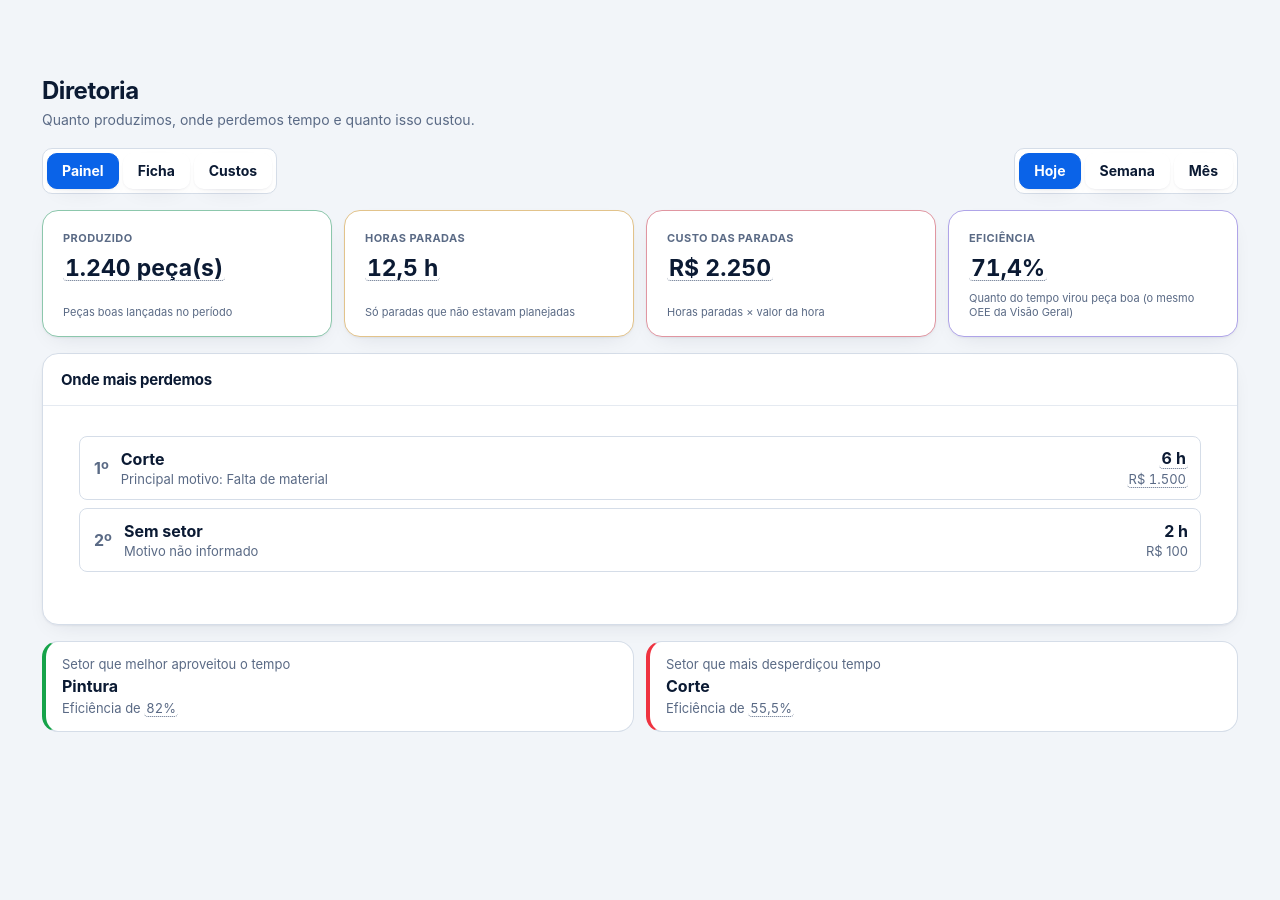
Diretoria: números clicáveis › Painel: horas e custo de cada setor do ranking levam o setor
expect the heading "Onde mais perdemos" is shown: met, box [61, 370, 212, 389]
Step 1. Click the button named "Ver de onde vem este número:" → (1174, 459), box [1159, 448, 1188, 469]
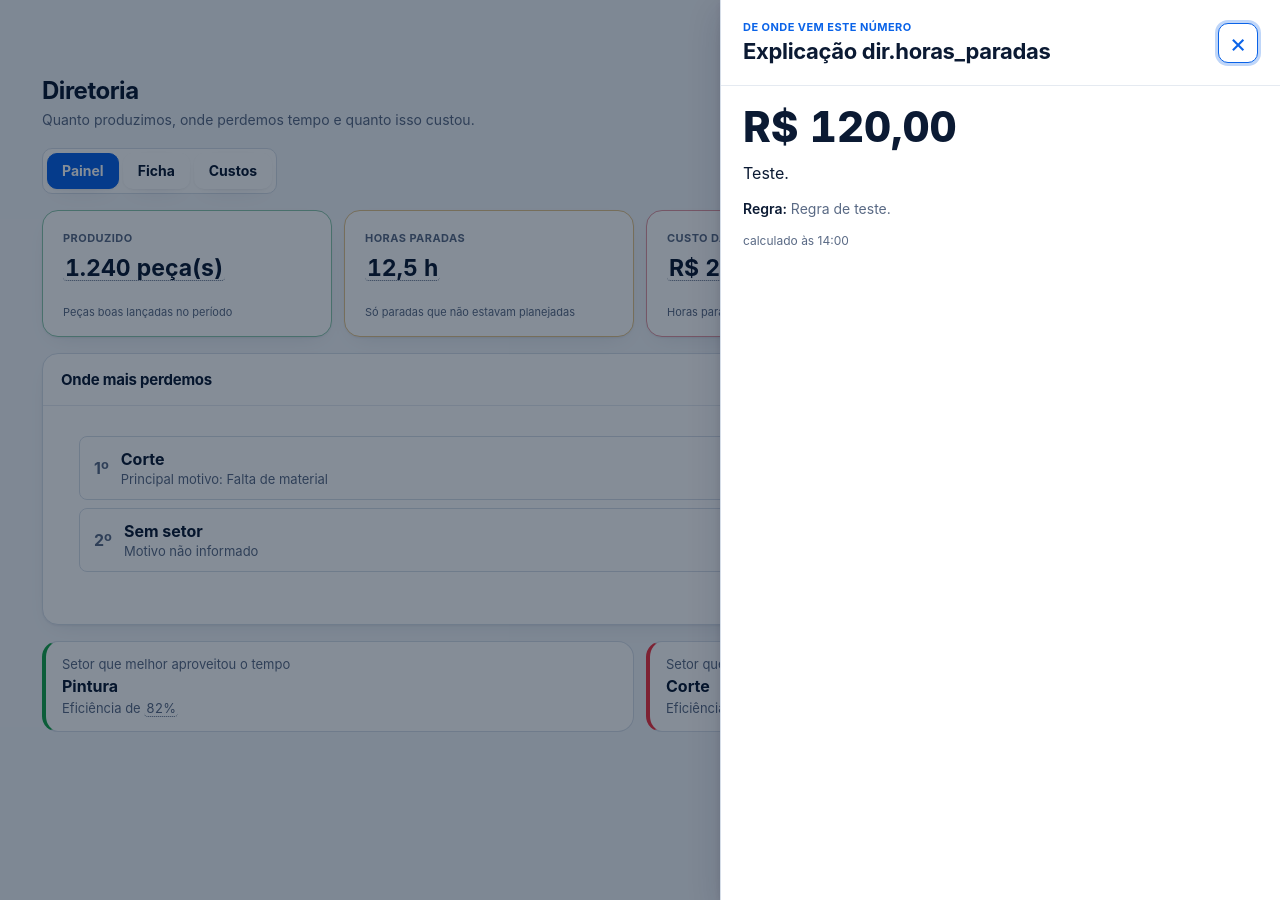
expect the dialog is shown: met, box [720, 0, 1279, 899]
Step 2. Click the button named "Fechar explicação" → (1238, 42), box [1218, 22, 1258, 62]
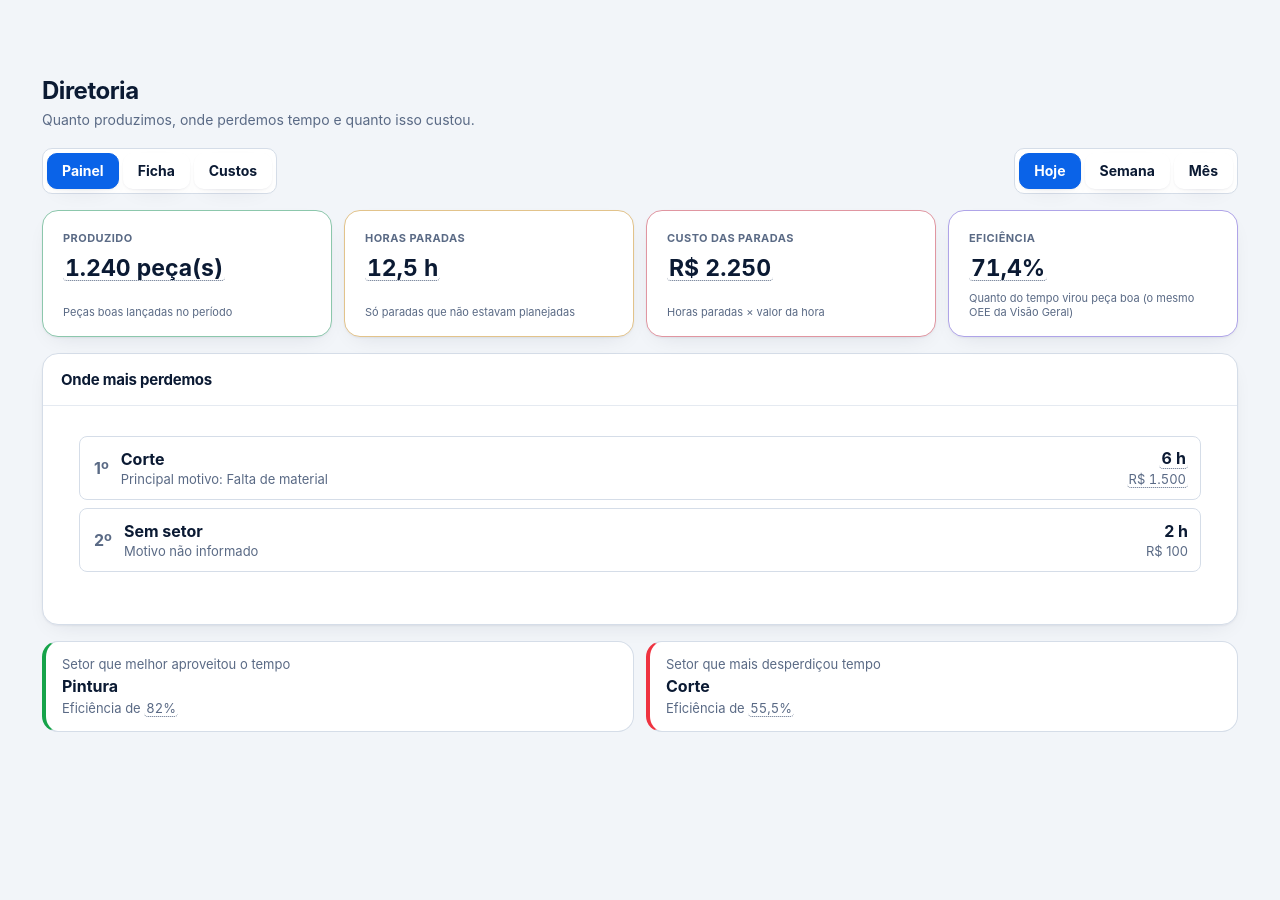
Step 3. Click the button named "Ver de onde vem este número:" → (1157, 480), box [1127, 471, 1188, 488]
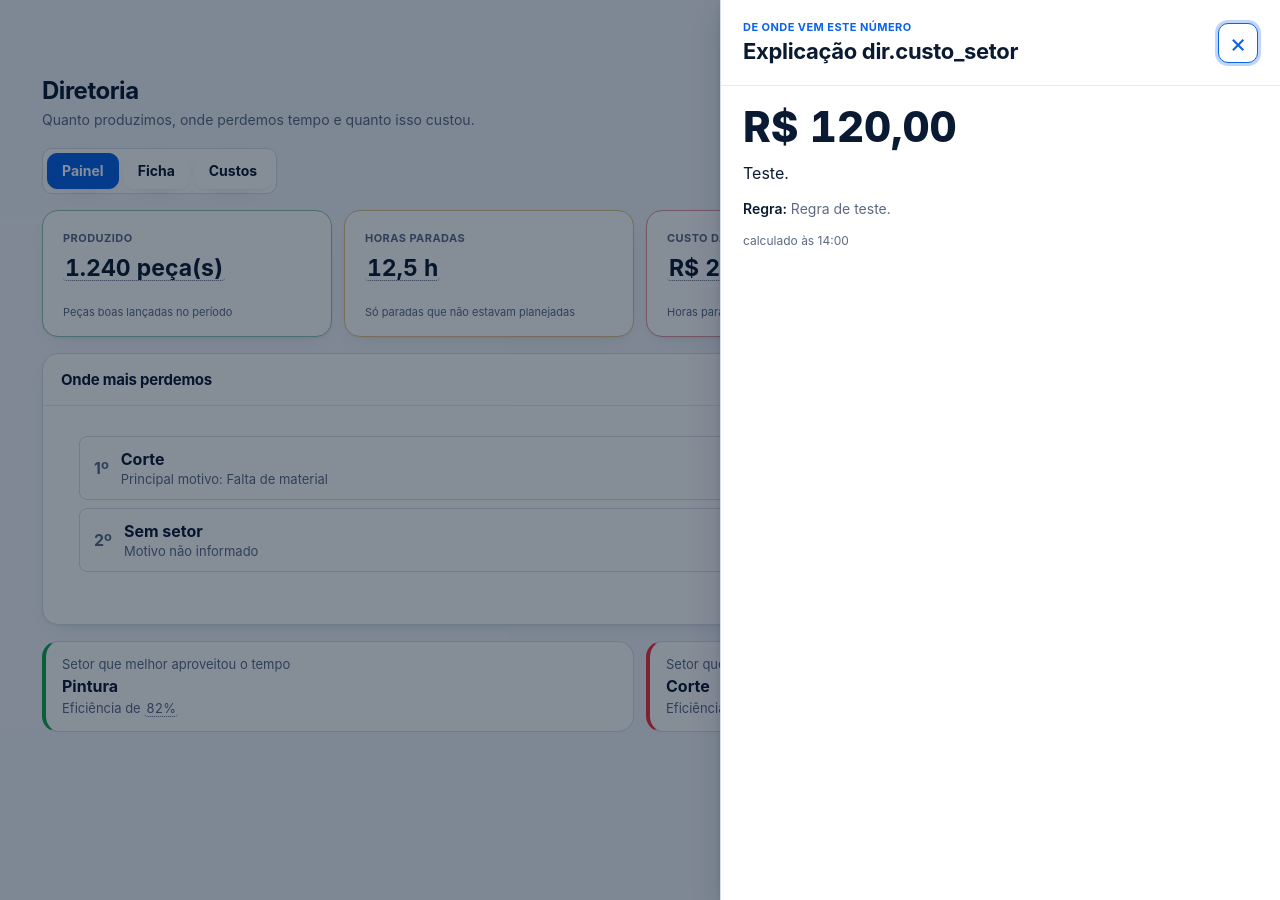
expect the dialog is shown: met, box [720, 0, 1279, 899]
